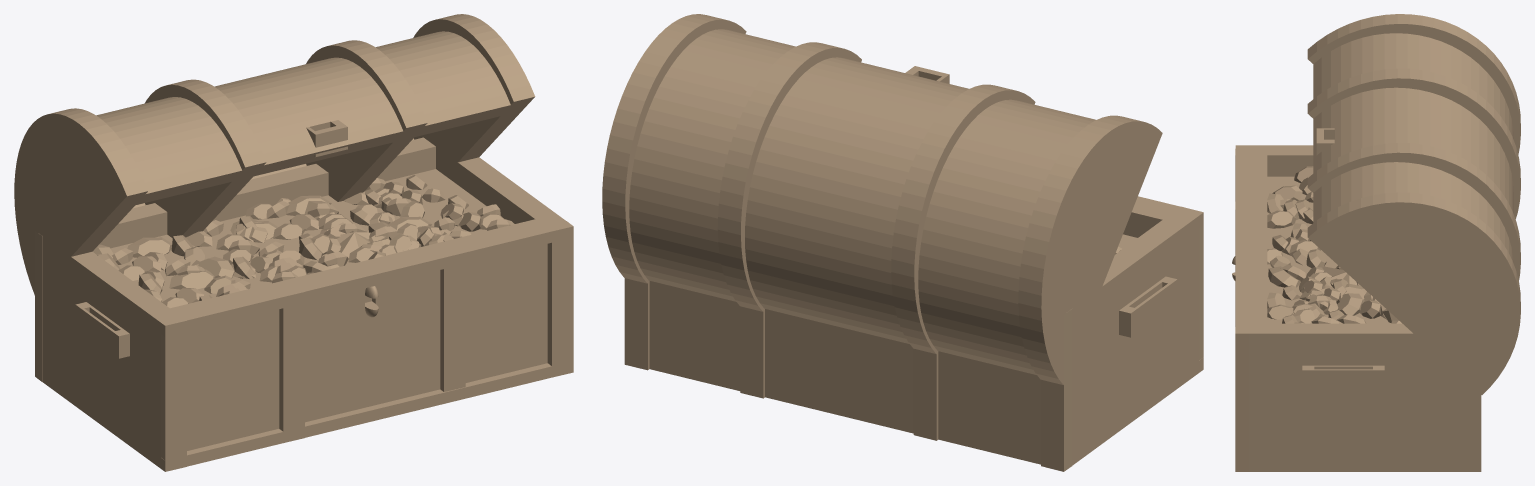
Rendered from treasure.glb.
The picture shows the model from 3 angles, left to right: view 1: azimuth 30°, elevation 25°; view 2: azimuth 150°, elevation 25°; view 3: azimuth 270°, elevation 25°; orthographic projection. The views are drawn at different scales.
Parts seen in each view (by area): view 1: Mesh_Mesh_head_geo.001_lambert2SG.001; view 2: Mesh_Mesh_head_geo.001_lambert2SG.001; view 3: Mesh_Mesh_head_geo.001_lambert2SG.001.
Part boxes in pixels (left/top/right/bottom): Mesh_Mesh_head_geo.001_lambert2SG.001: left=14, top=14, right=573, bottom=471; Mesh_Mesh_head_geo.001_lambert2SG.001: left=602, top=14, right=1203, bottom=471; Mesh_Mesh_head_geo.001_lambert2SG.001: left=1232, top=14, right=1520, bottom=471.
Bounding box in the file's own units: 40 × 25.36 × 24.62.
